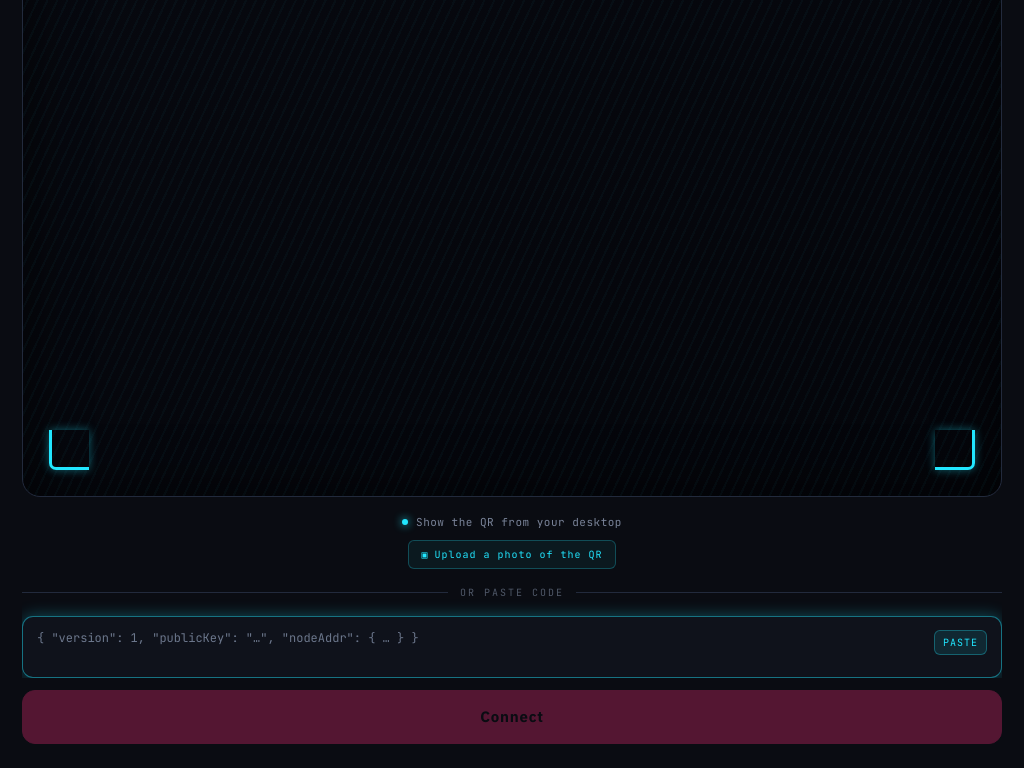
Test: RemotePairing — pair panel › surfaces a clipboard read failure as a hint
(page scrolled)
What coordinates should you click on to do the following:
click the button "PASTE"
I would click on:
 (960, 643)
Its box is [934, 630, 987, 655].
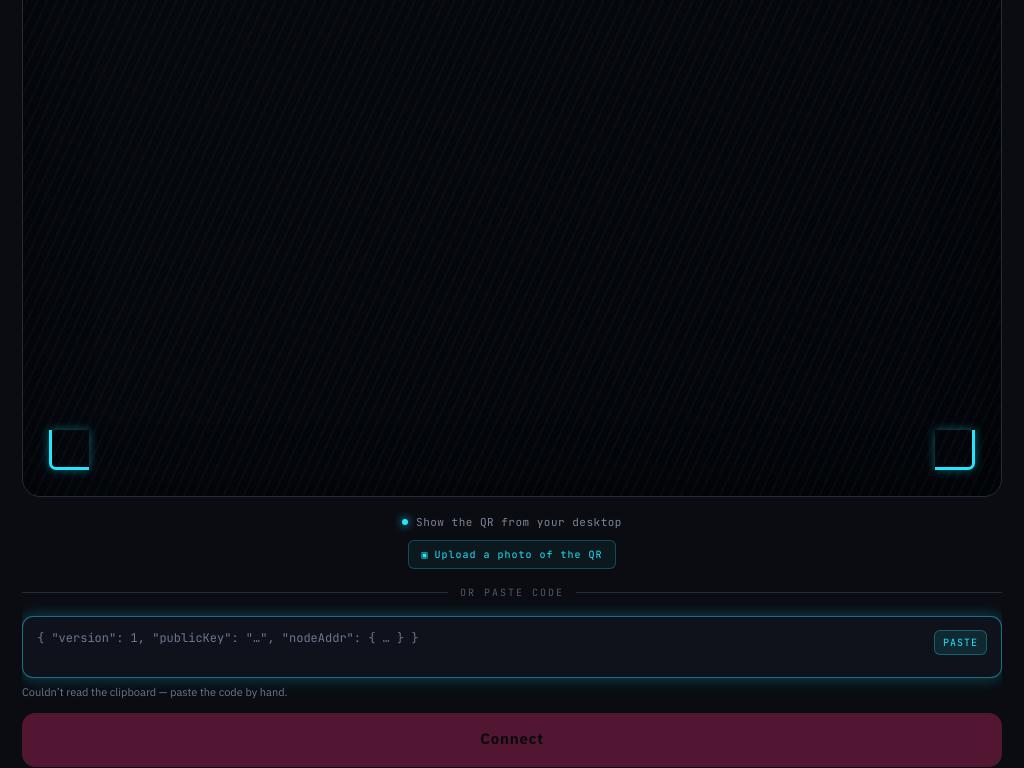
Expected: the text "Couldn’t read the clipboard — paste the code by hand." is shown, [22, 685, 288, 699]
